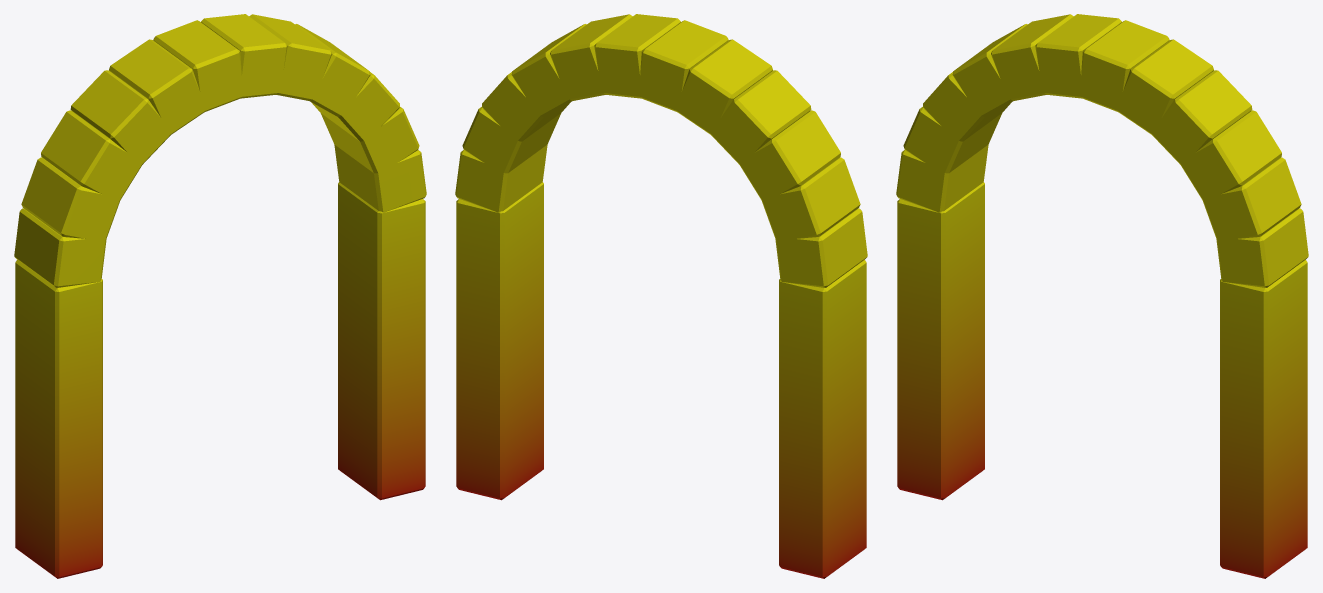
The model's file is arch.glb.
3 renders of one model, left to right at view 1: azimuth 30°, elevation 25°; view 2: azimuth 150°, elevation 25°; view 3: azimuth 330°, elevation 25°, orthographic.
Visible parts, largest first — view 1: arch; view 2: arch; view 3: arch.
Part boxes in pixels (<box>): arch: <box>14,14,426,578</box>; arch: <box>455,14,867,578</box>; arch: <box>896,14,1308,578</box>.
Size of what is drawn, in the model's own units: 4.02 by 5.01 by 0.8.
